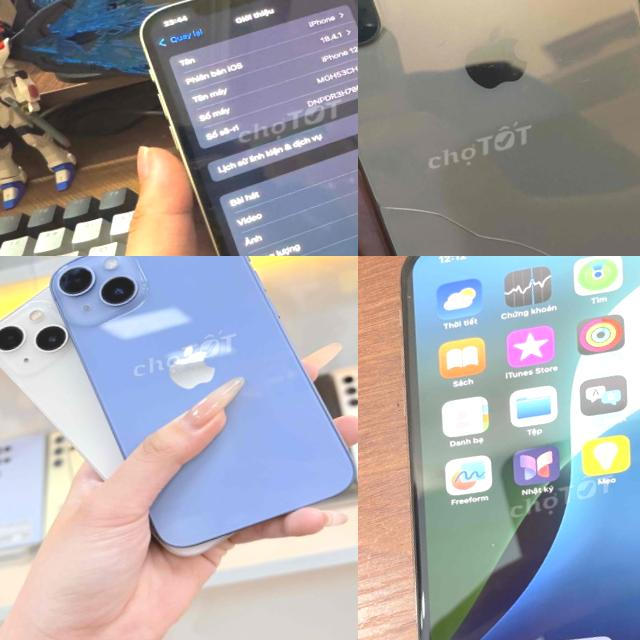gen_12_13: (128, 0, 358, 256)
gen_14: (40, 256, 358, 566)
gen_x_xs: (401, 256, 640, 640), (358, 0, 640, 256)
